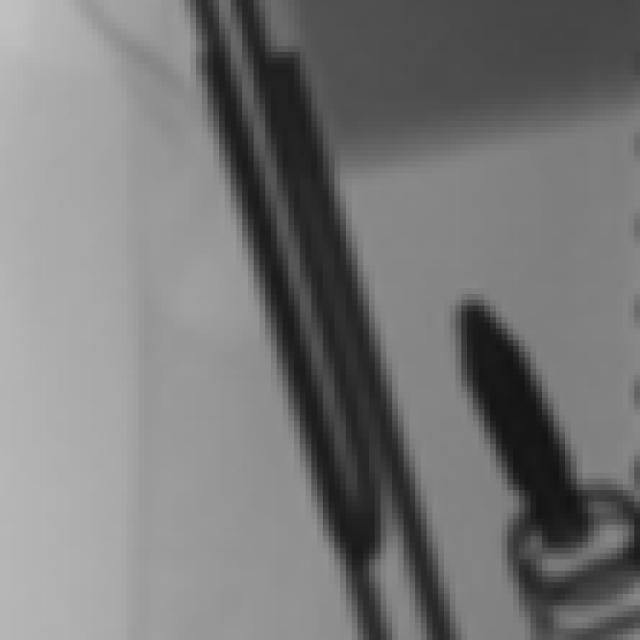GUN: (431, 288, 612, 556)
